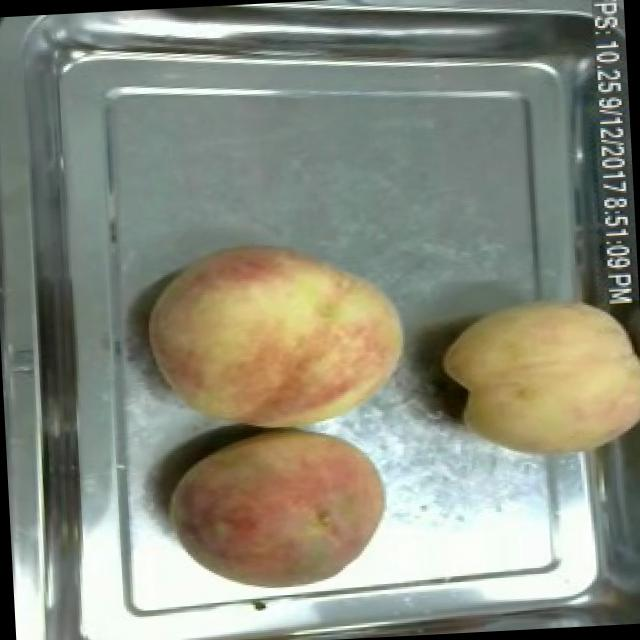Fruit: (136, 227, 412, 443), (157, 416, 396, 606), (433, 281, 640, 472)
